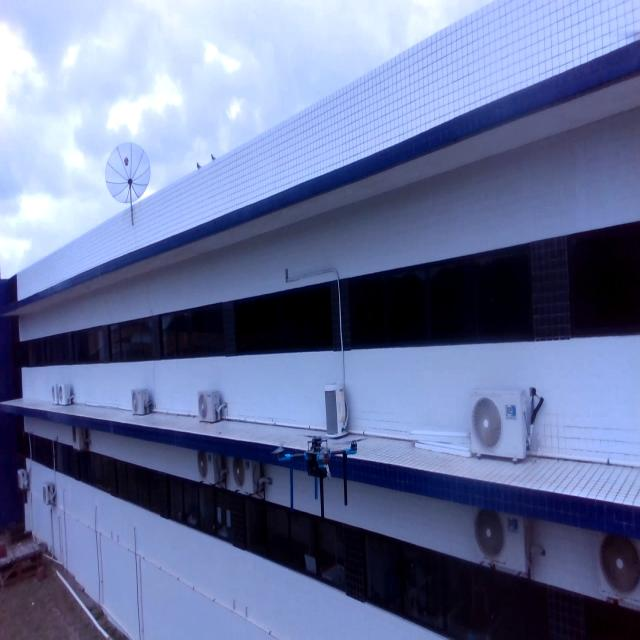-uav-: (269, 421, 373, 532)
